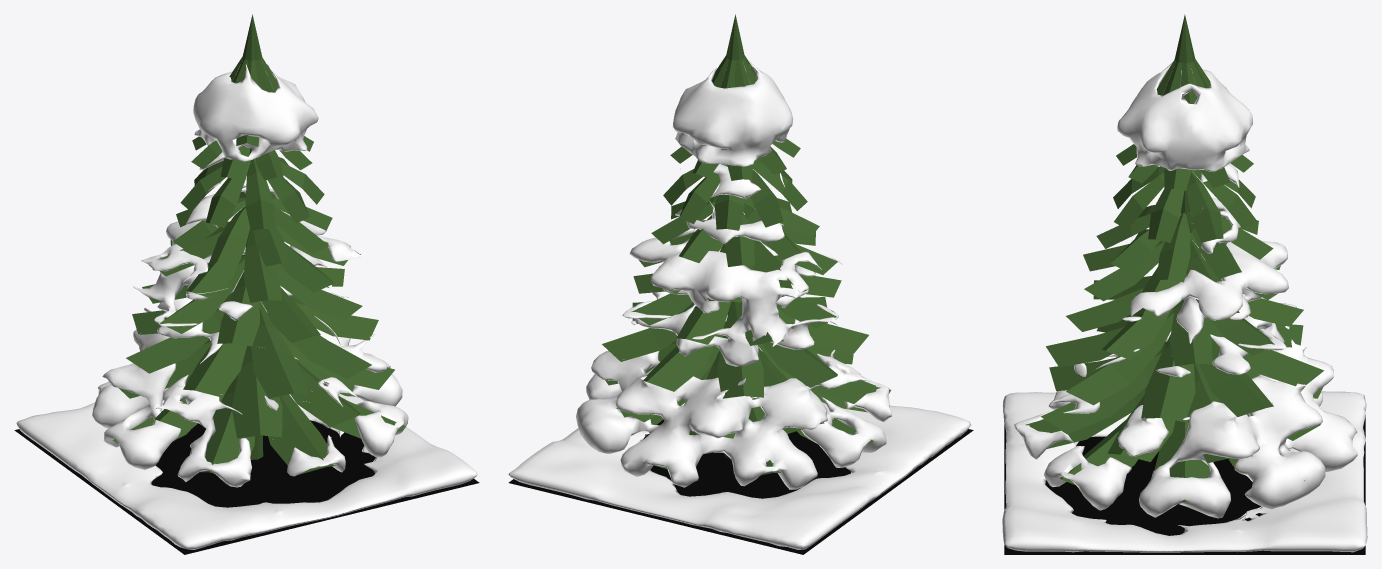
File: Tree_S5P1.glb
3 views of the same model, side by side, from view 1: azimuth 30°, elevation 25°; view 2: azimuth 150°, elevation 25°; view 3: azimuth 270°, elevation 25° (orthographic). The views are drawn at different scales.
Parts seen in each view (by area): view 1: SnowMesh, Fir_Tree, Plane; view 2: SnowMesh, Fir_Tree, Plane; view 3: SnowMesh, Fir_Tree, Plane.
Part boxes in pixels (<box>): SnowMesh: <box>16,64,477,549</box>; Fir_Tree: <box>98,14,405,474</box>; Plane: <box>14,420,479,554</box>; SnowMesh: <box>508,60,970,549</box>; Fir_Tree: <box>602,14,890,475</box>; Plane: <box>508,419,973,554</box>; SnowMesh: <box>1002,62,1367,552</box>; Fir_Tree: <box>1015,14,1324,502</box>; Plane: <box>1004,415,1365,554</box>.
Bounding box in the file's own units: 4.04 × 5.73 × 4.04.
